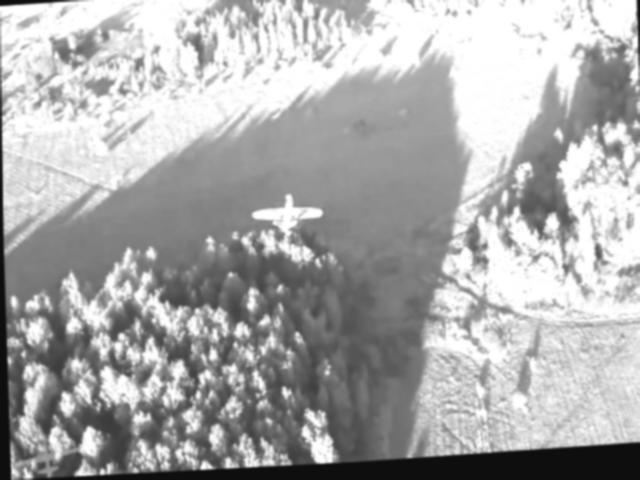hedef: (246, 192, 334, 246)
